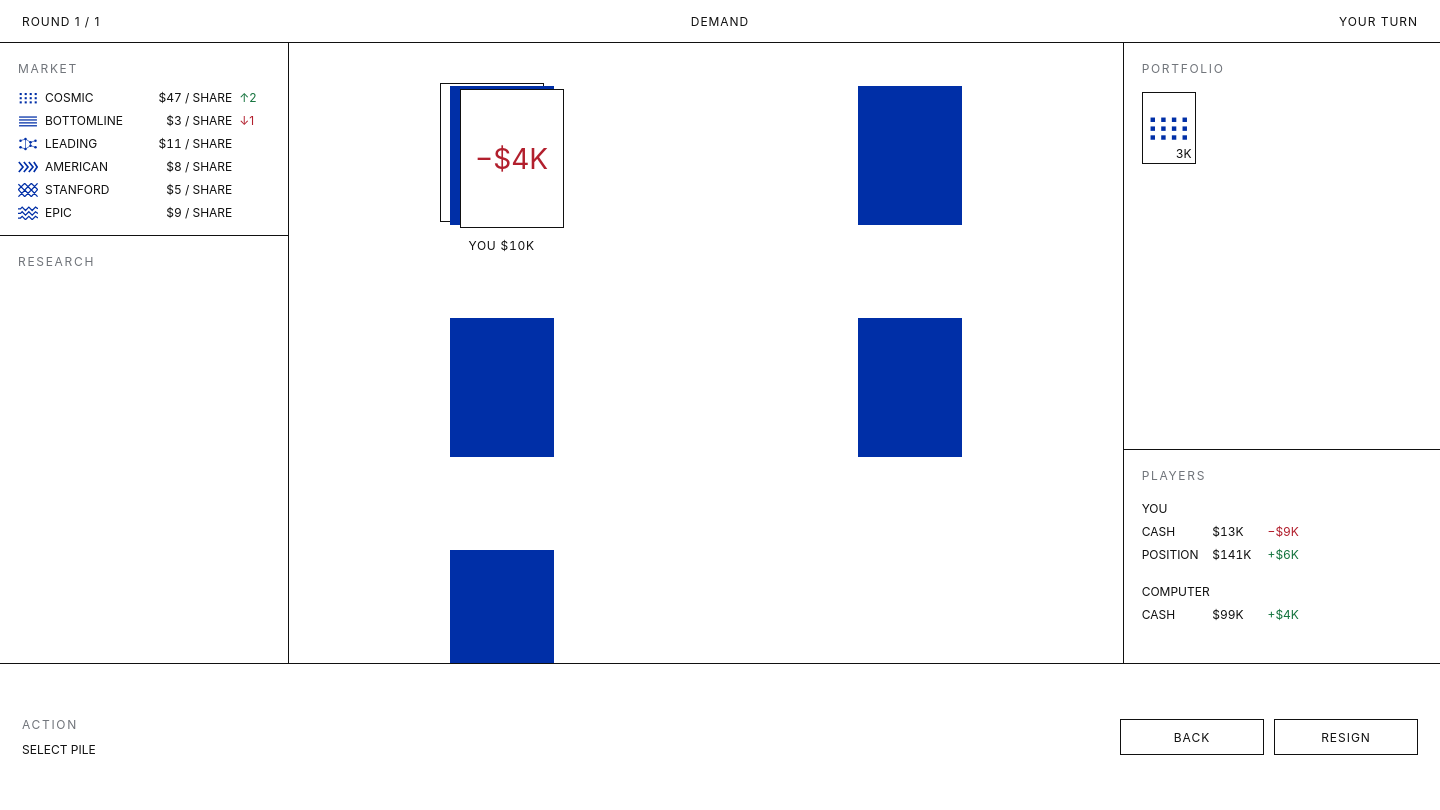
Test case: disciplined Stockpile Trainer game surface › collapses ordered stacks to white/blue edges and reveals remembered cards only on double-click
Double-click the 1st button named "Double-click or press Enter to expand stockpile" at (910, 156), box [858, 86, 962, 225]
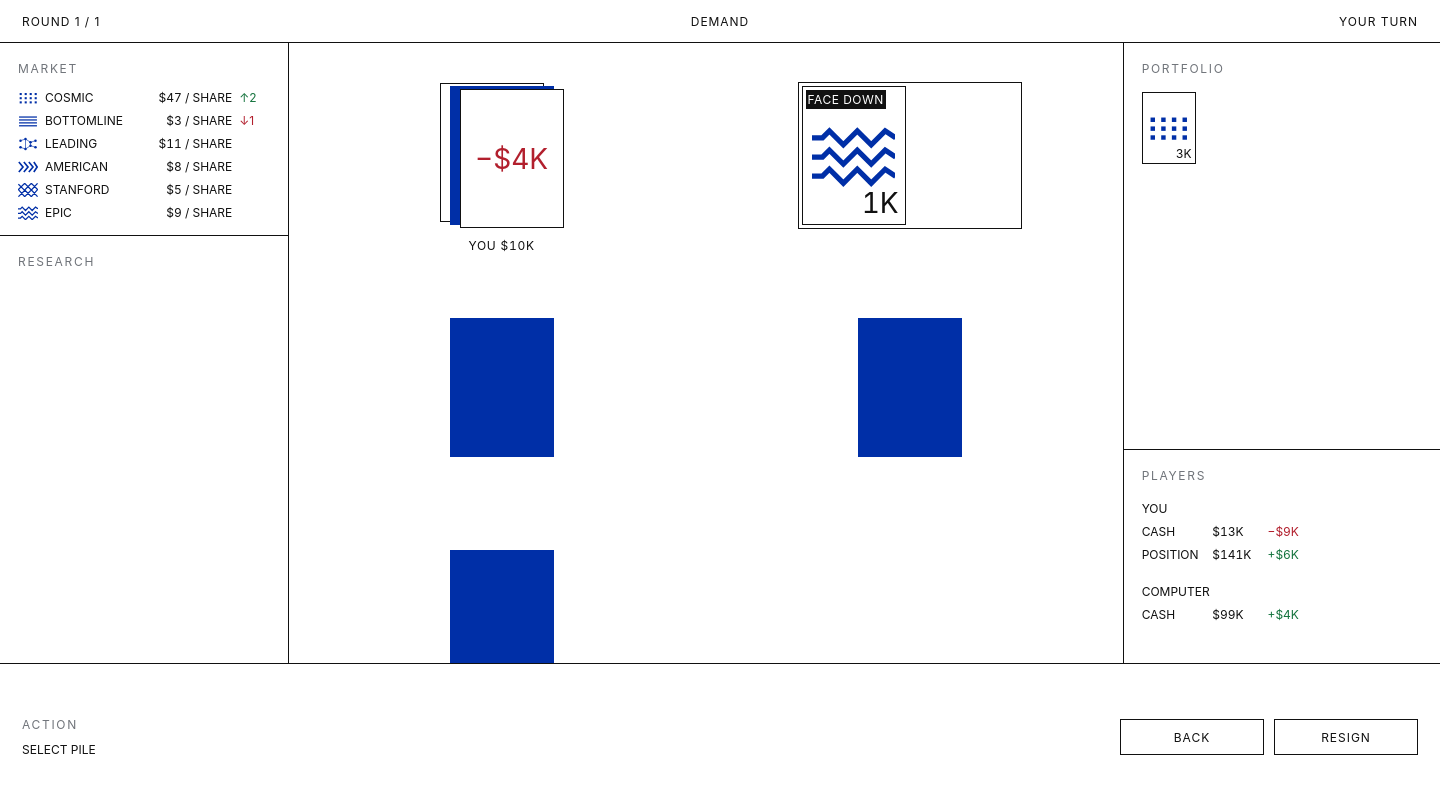
Expected: the button "1K FACE DOWN" is expanded
Expected: the element named "EPIC stock 1K shares" is shown
Expected: the text "FACE DOWN" is shown, [806, 90, 886, 109]
Double-click the button "1K FACE DOWN" at (854, 156), box [802, 86, 906, 225]
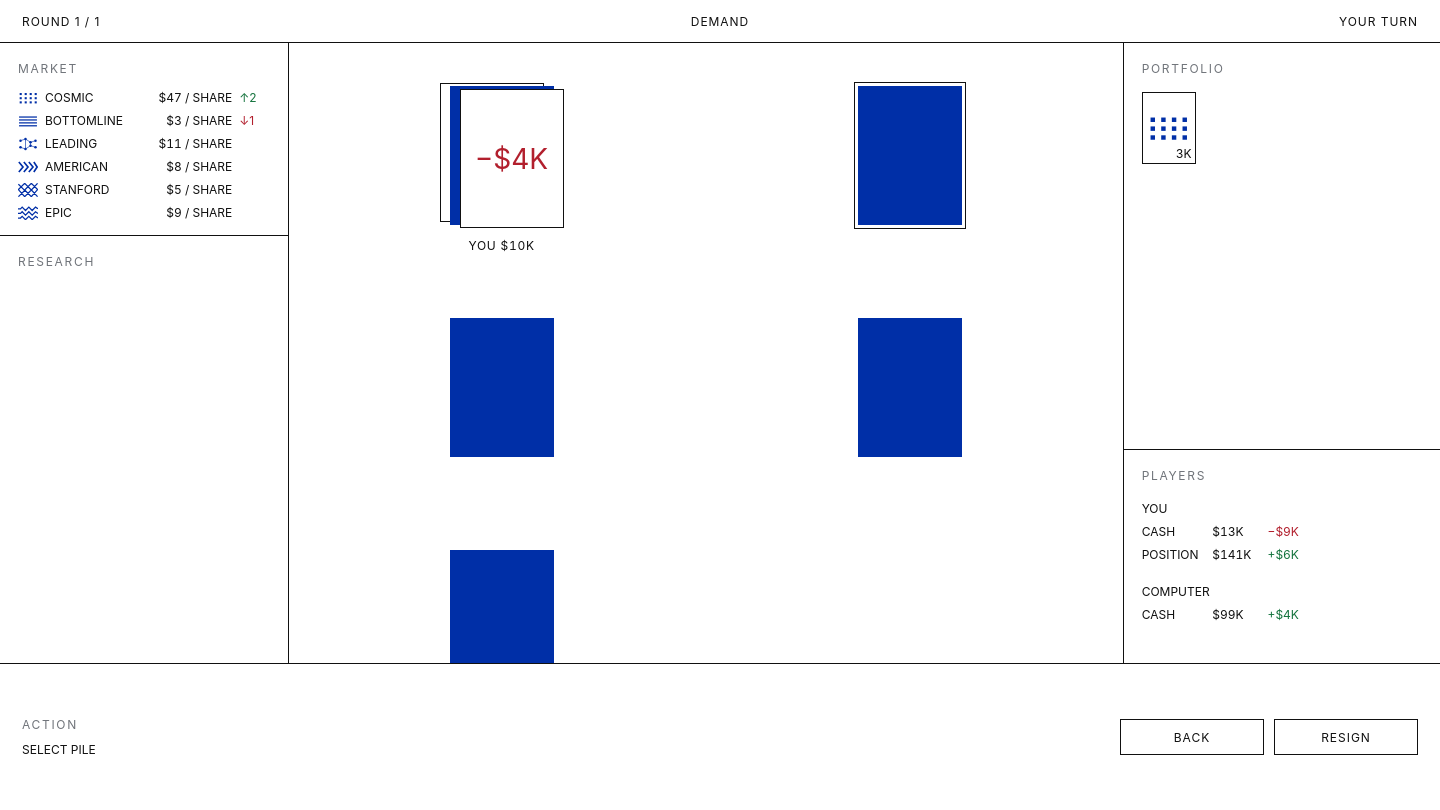
Expected: the 1st button named "Double-click or press Enter to expand stockpile" is collapsed, [858, 86, 962, 225]
Press Enter
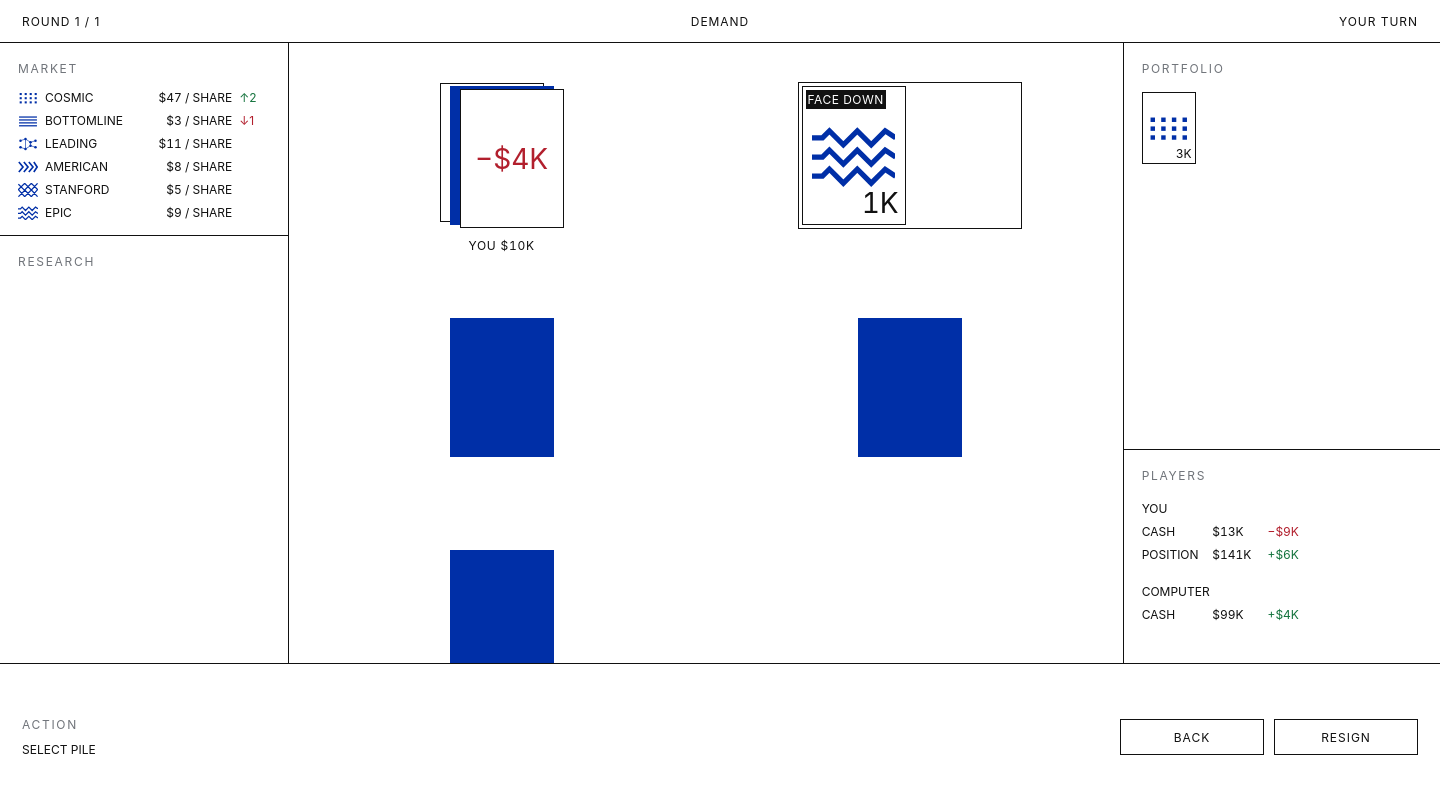
Expected: the button "1K FACE DOWN" is expanded, [802, 86, 906, 225]
